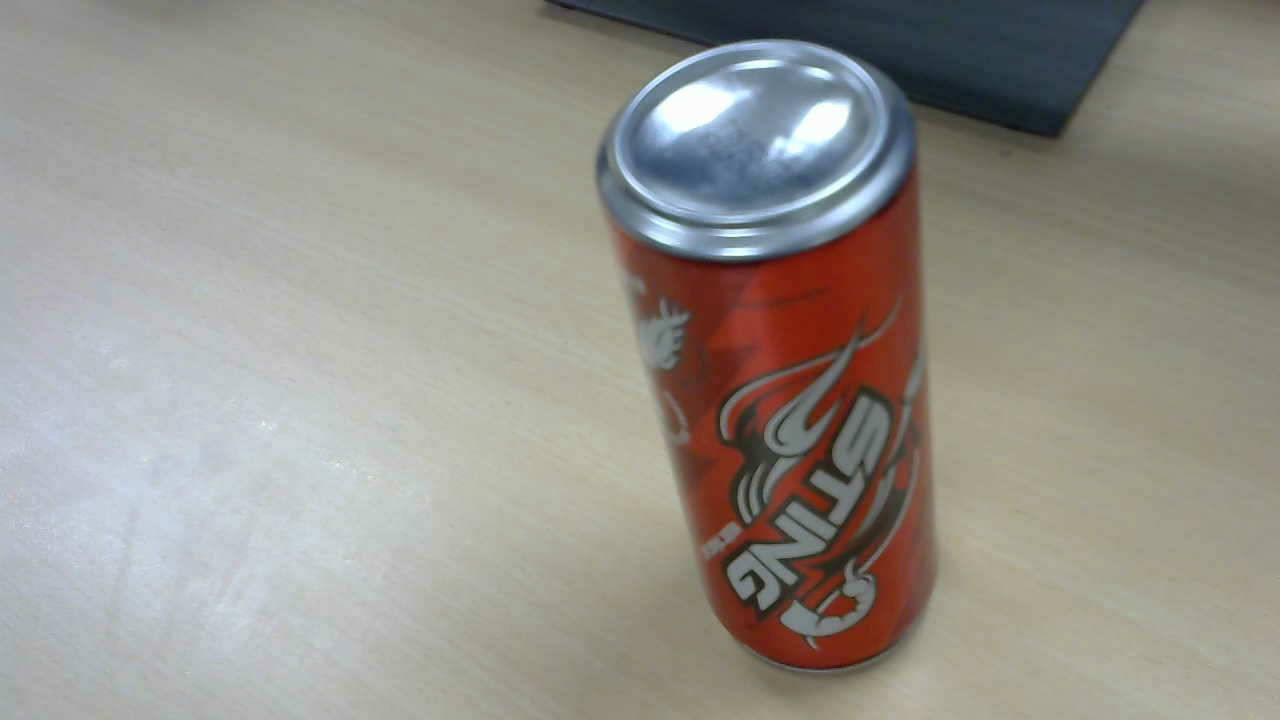Sting: (609, 39, 939, 677)
